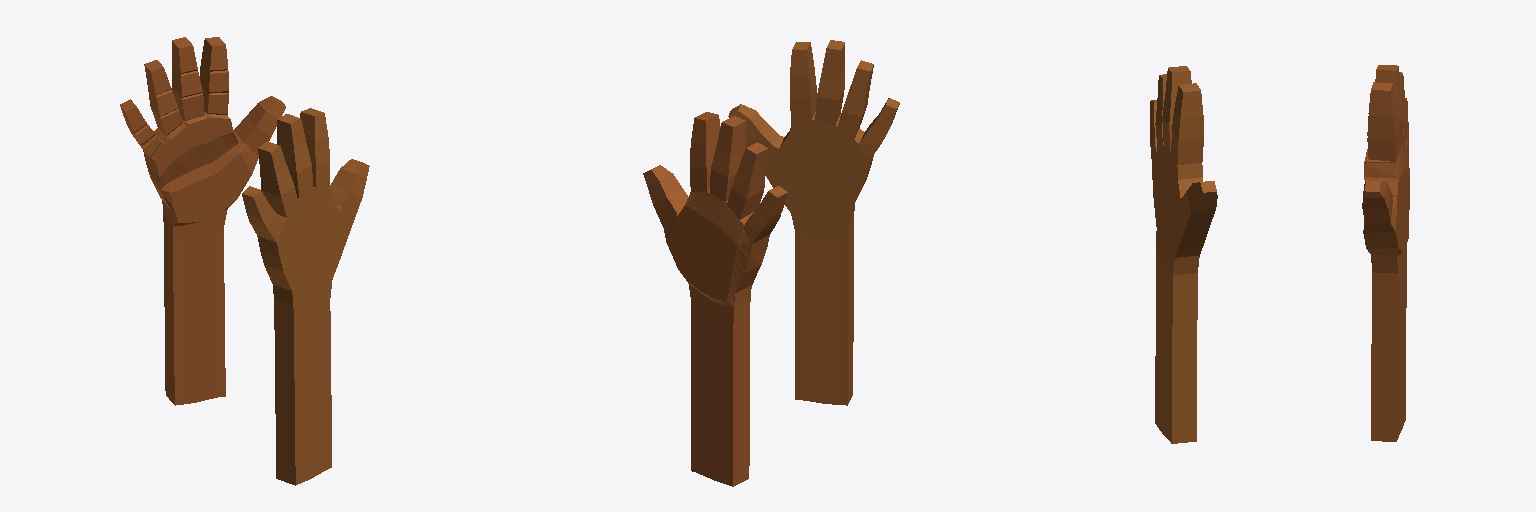
File: maogame.obj
3 views of the same model, side by side, from view 1: azimuth 30°, elevation 25°; view 2: azimuth 150°, elevation 25°; view 3: azimuth 270°, elevation 25° (orthographic).
Visible parts, largest first — view 1: Cube; view 2: Cube; view 3: Cube.
Boxes of the visible parts, x1,y1,x2,y2 form: Cube: [120, 37, 369, 485]; Cube: [643, 40, 899, 486]; Cube: [1150, 65, 1409, 443].
Bounding box in the file's own units: 9.91 × 22.6 × 14.85.